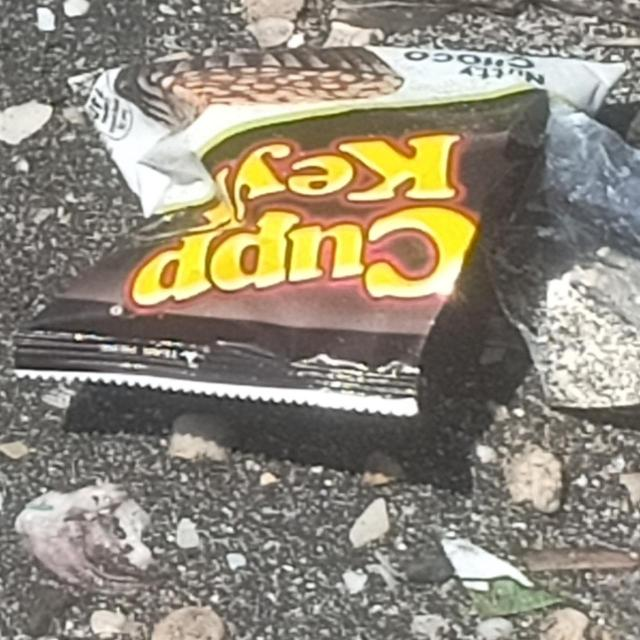plastic_waste: (15, 46, 630, 418)
